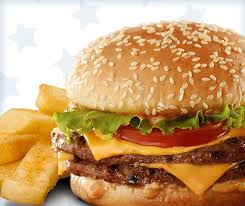hamburger: (51, 18, 245, 205)
